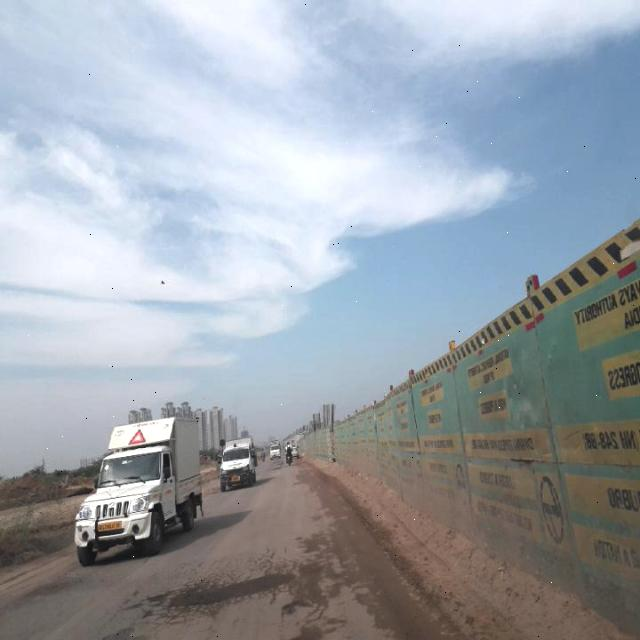D20: (146, 554, 317, 615)
D40: (144, 555, 316, 617)
